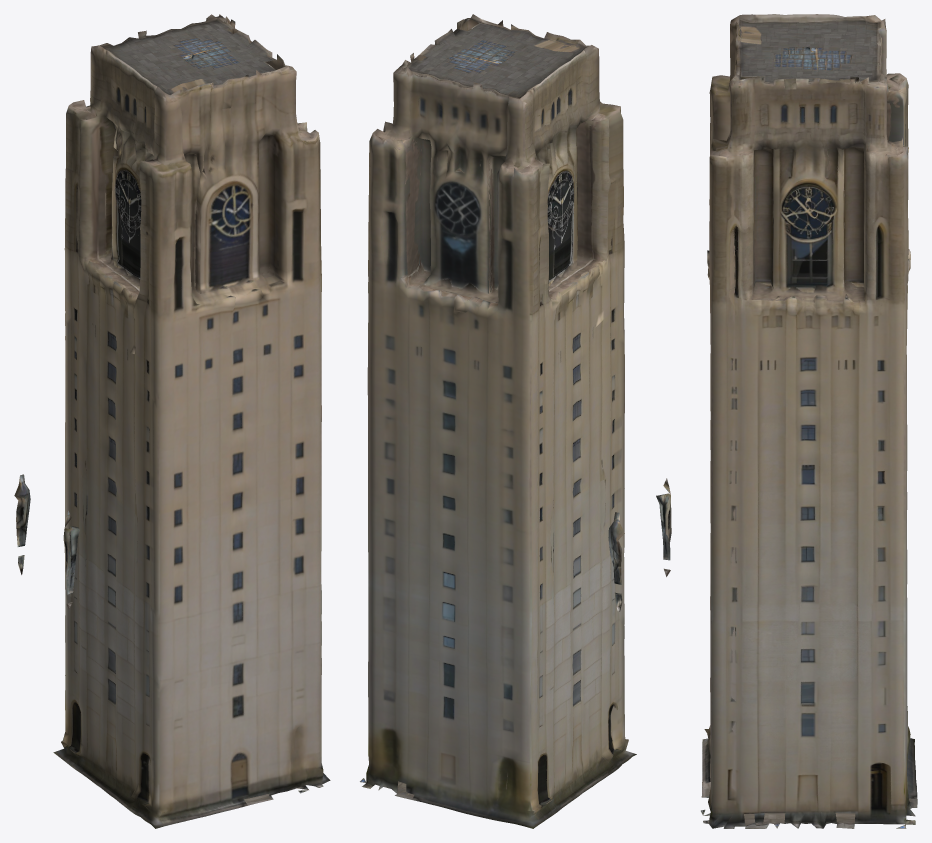
The picture shows the model from 3 angles, left to right: view 1: azimuth 30°, elevation 25°; view 2: azimuth 150°, elevation 25°; view 3: azimuth 270°, elevation 25°; orthographic projection. The views are drawn at different scales.
Size of the model in its own units: 0.665 by 1.86 by 0.4953.
1 material, 1 textured.
